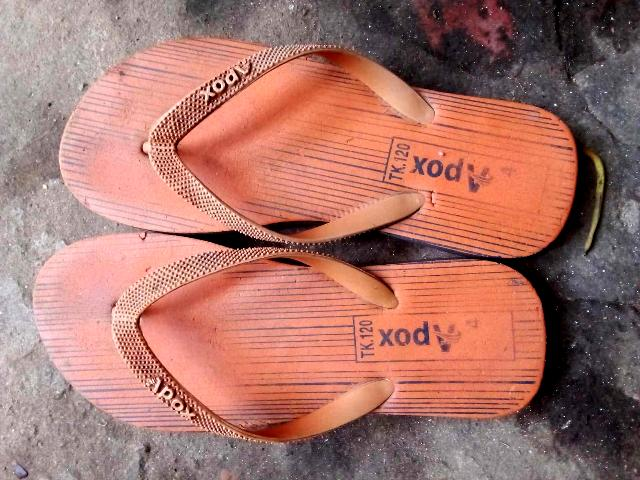sandal: (47, 0, 602, 307), (1, 252, 569, 460)
